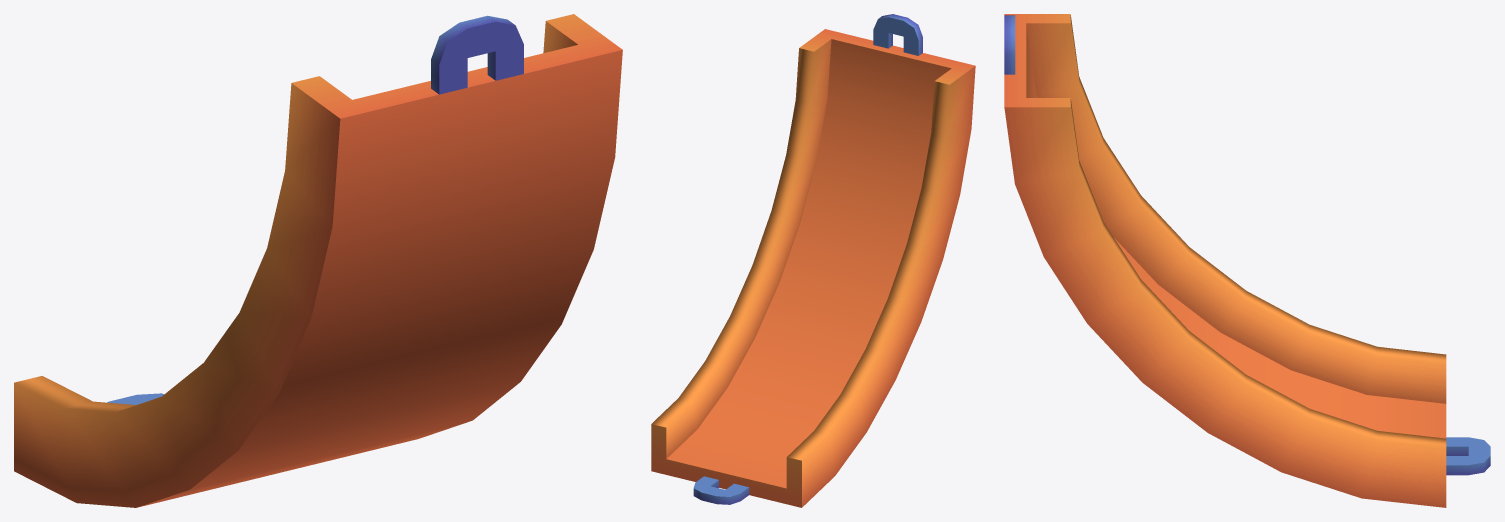
Rendered from track-narrow-straight-bend.glb.
3 renders of one model, left to right at view 1: azimuth 30°, elevation 25°; view 2: azimuth 150°, elevation 25°; view 3: azimuth 270°, elevation 25°, orthographic. The views are drawn at different scales.
Parts seen in each view (by area): view 1: track-narrow-straight-bend; view 2: track-narrow-straight-bend; view 3: track-narrow-straight-bend.
Boxes of the visible parts, x1,y1,x2,y2 form: track-narrow-straight-bend: [14, 14, 622, 507]; track-narrow-straight-bend: [651, 14, 975, 507]; track-narrow-straight-bend: [1004, 14, 1490, 507].
Size of the model in its own units: 3 by 6.6 by 6.6.
1 material, 1 textured.
